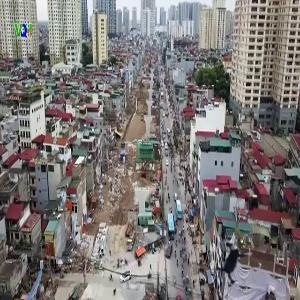drone: (204, 232, 267, 295)
